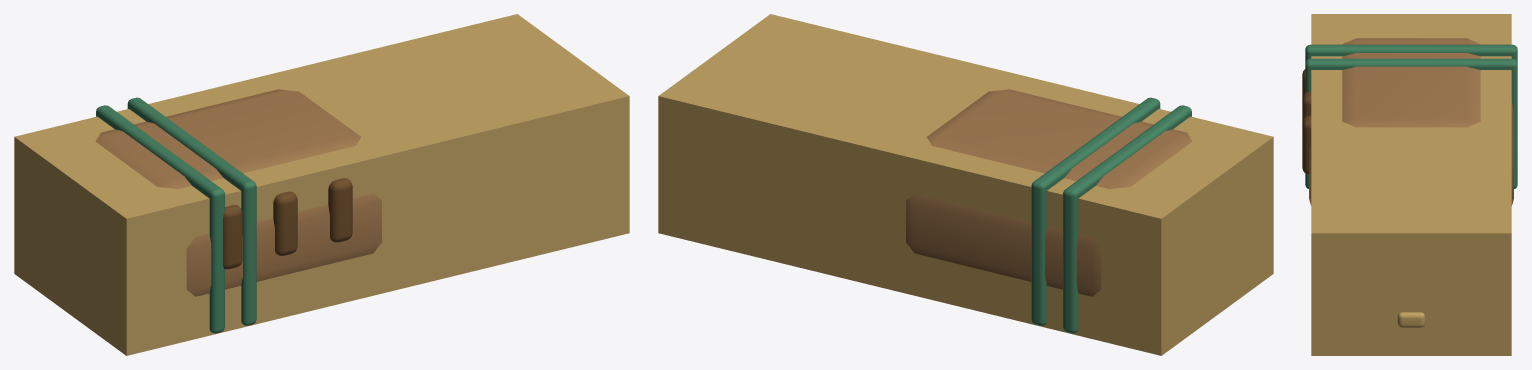
File: storm-gate-key.glb
The picture shows the model from 3 angles, left to right: view 1: azimuth 30°, elevation 25°; view 2: azimuth 150°, elevation 25°; view 3: azimuth 270°, elevation 25°; orthographic projection. The views are drawn at different scales.
Parts seen in each view (by area): view 1: COL_storm_key, Rounded cork float, Green binding thread, Cuts in the cork; view 2: COL_storm_key, Rounded cork float, Green binding thread; view 3: COL_storm_key, Rounded cork float, Green binding thread, Cuts in the cork, Oxidized key brass.
Part boxes in pixels (box(x1,y1,x2,y2)): COL_storm_key: box(14, 14, 629, 355); Rounded cork float: box(95, 89, 381, 296); Green binding thread: box(96, 97, 256, 333); Cuts in the cork: box(223, 178, 352, 269); COL_storm_key: box(658, 14, 1273, 355); Rounded cork float: box(906, 89, 1192, 296); Green binding thread: box(1031, 97, 1191, 333); COL_storm_key: box(1311, 14, 1511, 355); Rounded cork float: box(1309, 38, 1513, 205); Green binding thread: box(1305, 44, 1517, 188); Cuts in the cork: box(1302, 69, 1311, 174); Oxidized key brass: box(1397, 312, 1425, 327).
Size of the model in its own units: 0.434 by 0.1185 by 0.1785.
